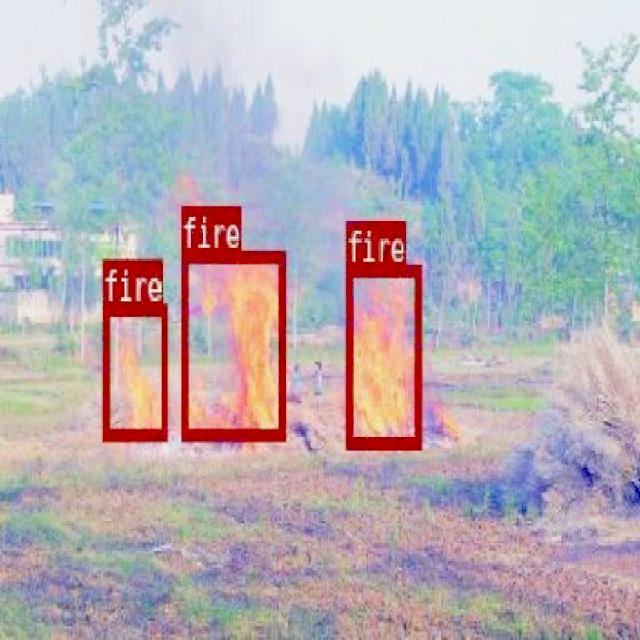fire: (180, 250, 283, 439), (346, 262, 420, 447), (102, 303, 166, 439)
